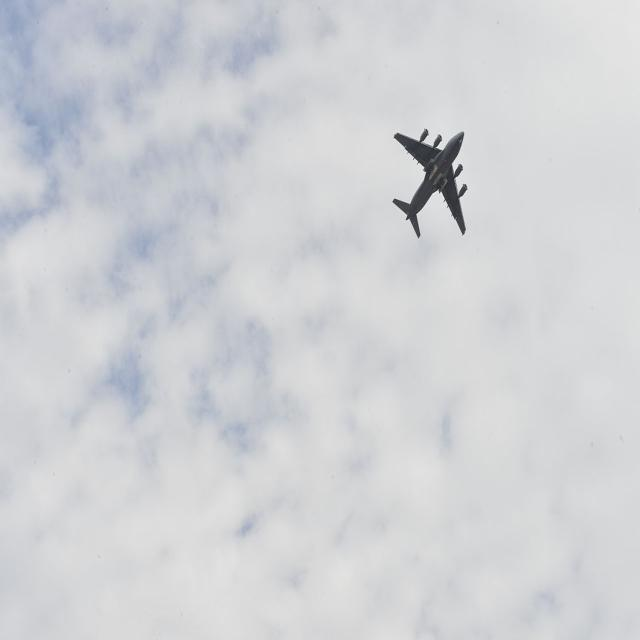MIL_Plane: (353, 147, 430, 219)
